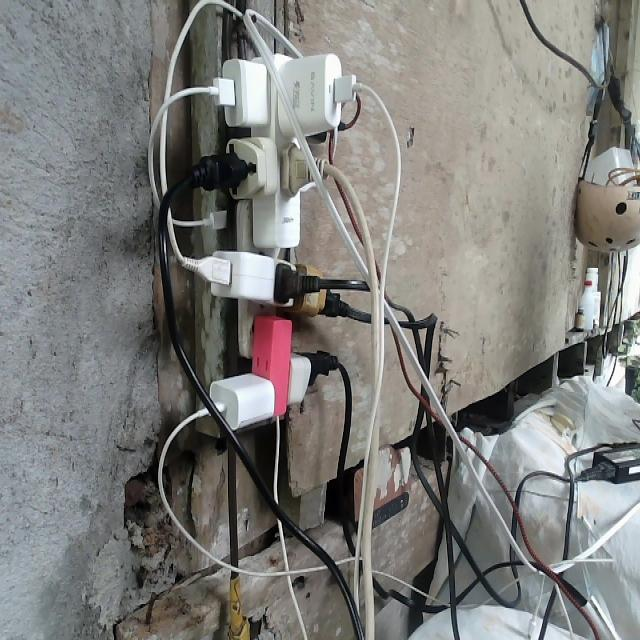-: (184, 51, 363, 433)
